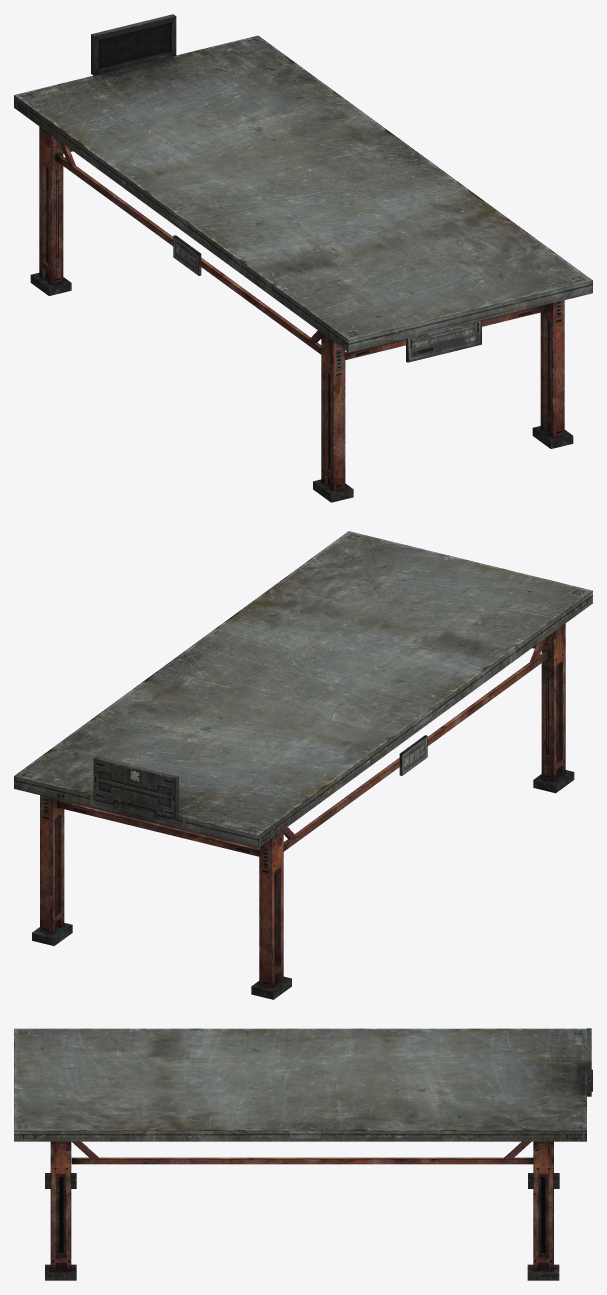
Rendered from table_community_room.dae.
3 views of the same model, one above another, from view 1: azimuth 30°, elevation 25°; view 2: azimuth 150°, elevation 25°; view 3: azimuth 270°, elevation 25° (orthographic). The views are drawn at different scales.
Parts seen in each view (by area): view 1: Mesh, Mesh__2_; view 2: Mesh, Mesh__2_; view 3: Mesh, Mesh__2_.
Boxes of the visible parts, bbox=[...] form: Mesh: bbox=[14, 35, 592, 502]; Mesh__2_: bbox=[91, 14, 176, 75]; Mesh: bbox=[14, 531, 592, 999]; Mesh__2_: bbox=[93, 756, 178, 818]; Mesh: bbox=[14, 1028, 592, 1280]; Mesh__2_: bbox=[586, 1028, 591, 1096].
Bounding box in the file's own units: 1.53 × 1.29 × 3.67.
